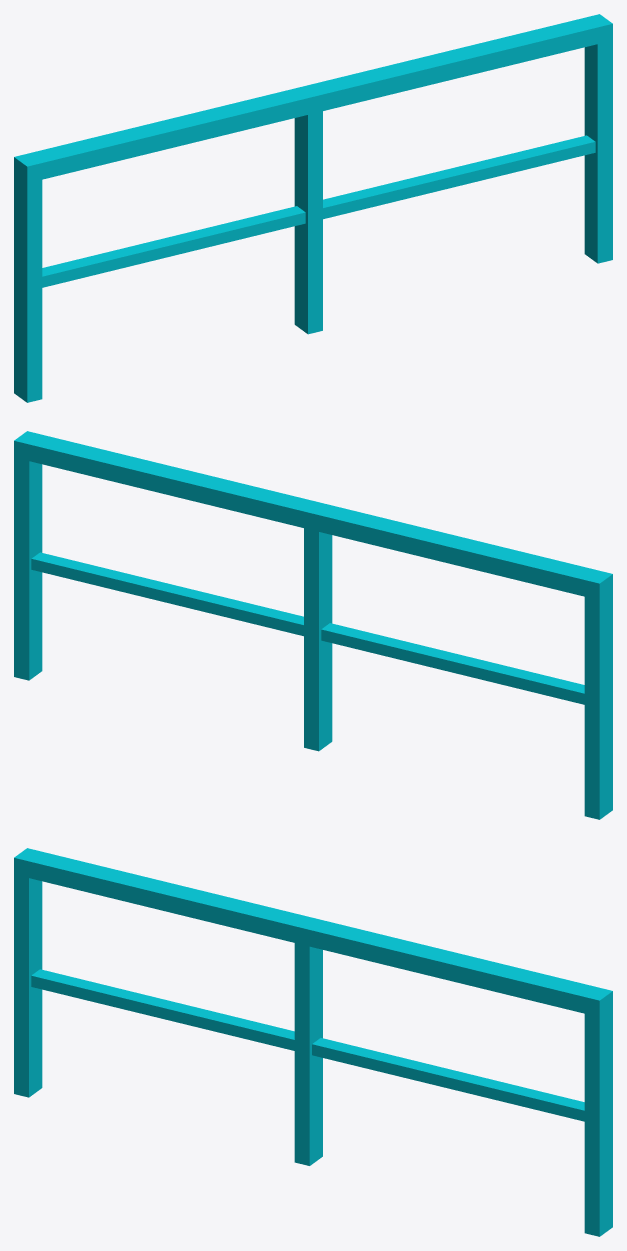
The model's file is Partitions_079.glb.
3 renders of one model, top to bottom at view 1: azimuth 30°, elevation 25°; view 2: azimuth 150°, elevation 25°; view 3: azimuth 330°, elevation 25°, orthographic.
Visible parts, largest first — view 1: Partitions_079; view 2: Partitions_079; view 3: Partitions_079.
Part boxes in pixels (box(x1,y1,x2,y2)): Partitions_079: box(14, 14, 612, 402); Partitions_079: box(14, 431, 612, 819); Partitions_079: box(14, 848, 612, 1236).
Bounding box in the file's own units: 2.03 × 0.781 × 0.0793.
Materials: 1 (1 with a texture image).
